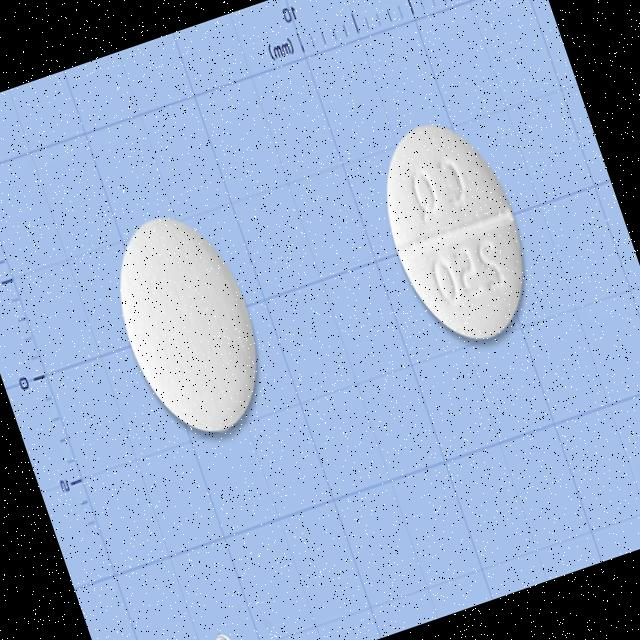Cq Robey: (92, 195, 281, 450), (360, 105, 548, 357)
